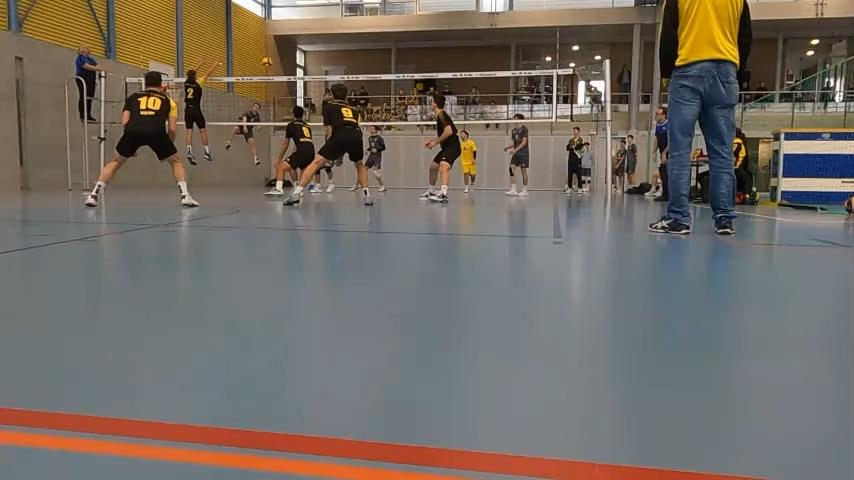attacco: (222, 96, 263, 169)
muro: (178, 55, 227, 165)
